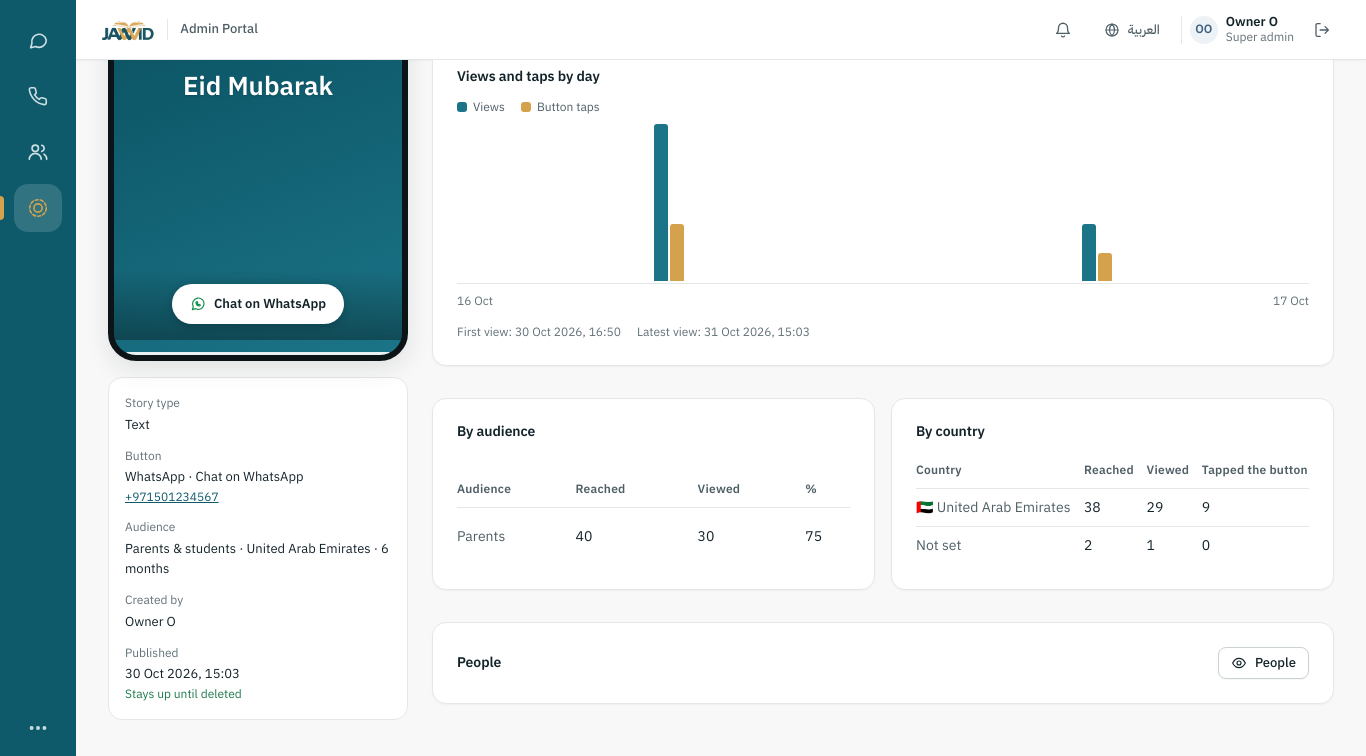
Test: insights › fetches who viewed only when asked -- the most sensitive read is never prefetched
The image size is (1366, 756).
(page scrolled)
Click the button "People". click: (1263, 663)
box: [1218, 647, 1309, 679]
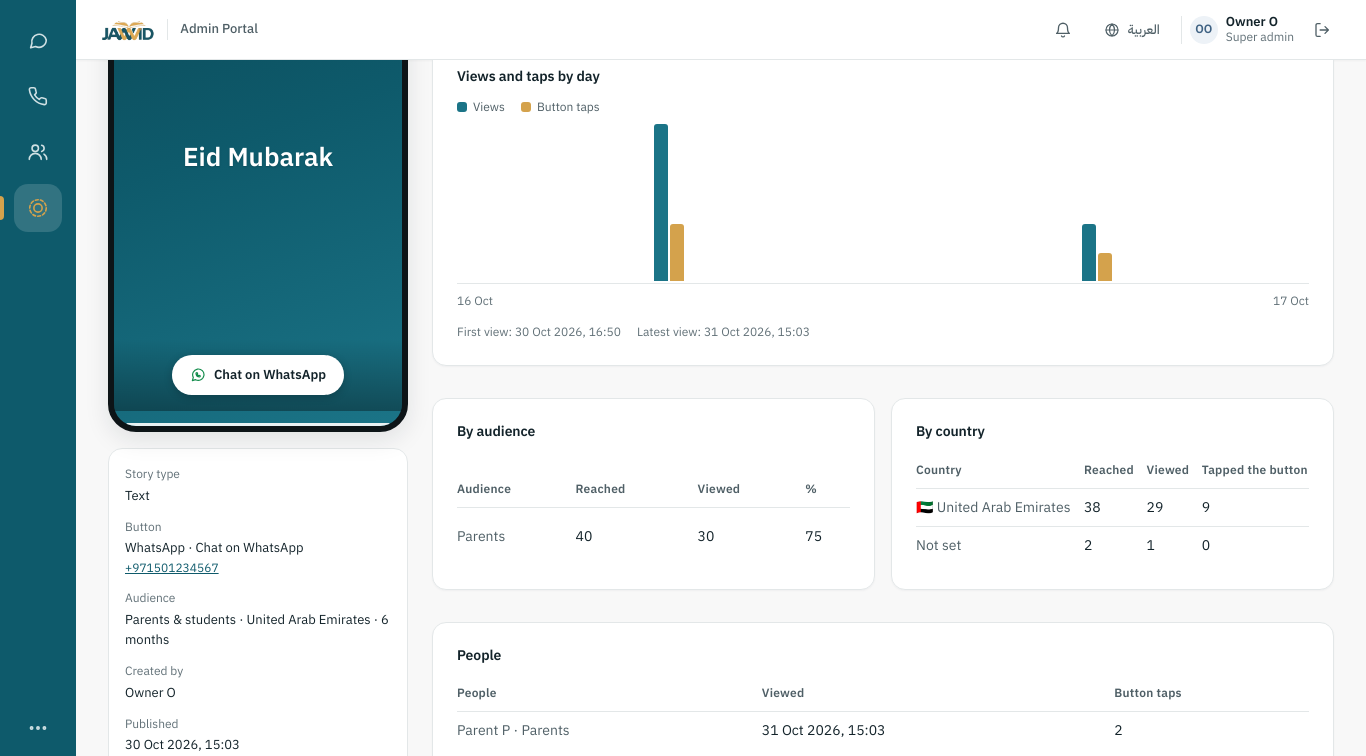
Expected: the text "Parent P" is shown, [457, 720, 510, 741]
